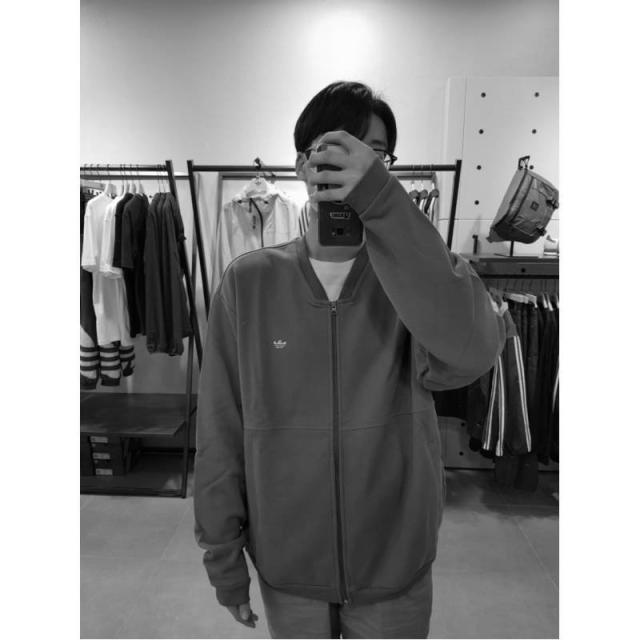Adidas: (259, 324, 310, 371)
